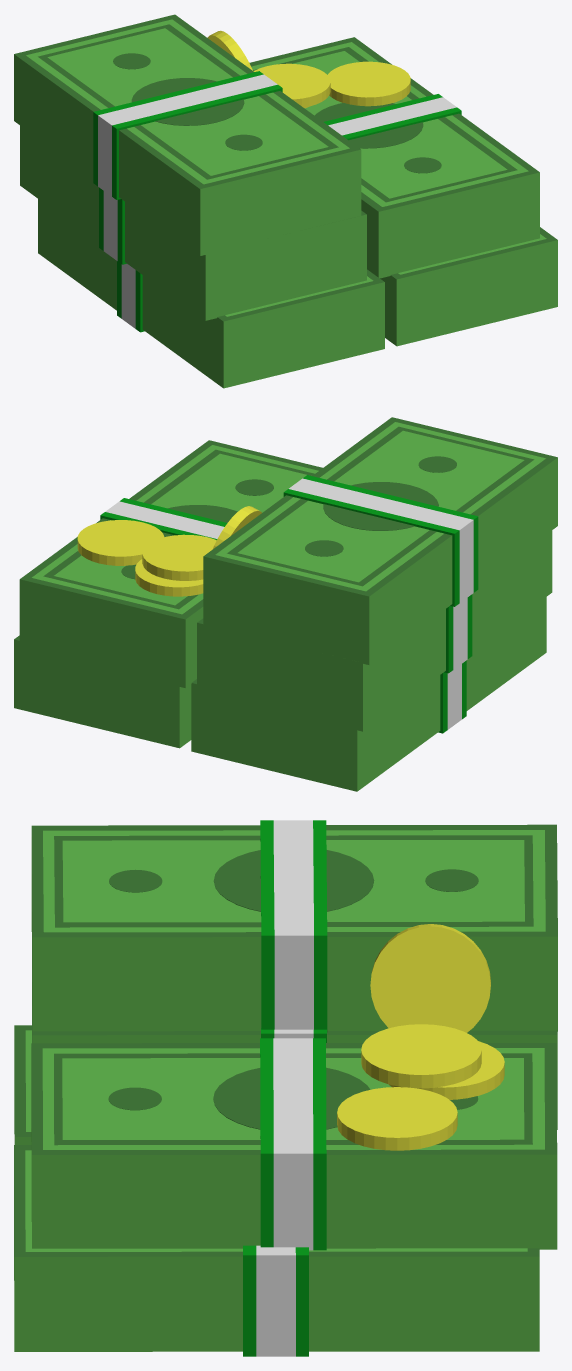
The model's file is coin.obj.
3 views of the same model, one above another, from view 1: azimuth 30°, elevation 25°; view 2: azimuth 150°, elevation 25°; view 3: azimuth 270°, elevation 25° (orthographic). The views are drawn at different scales.
Visible parts, largest first — view 1: MoneyFBXASC032Big; view 2: MoneyFBXASC032Big; view 3: MoneyFBXASC032Big.
Boxes of the visible parts, box(x1,y1,x2,y2) form: MoneyFBXASC032Big: box(14, 14, 557, 388); MoneyFBXASC032Big: box(14, 417, 557, 791); MoneyFBXASC032Big: box(14, 820, 557, 1356).
Size of the model in its own units: 2.53 by 1.44 by 2.35.
